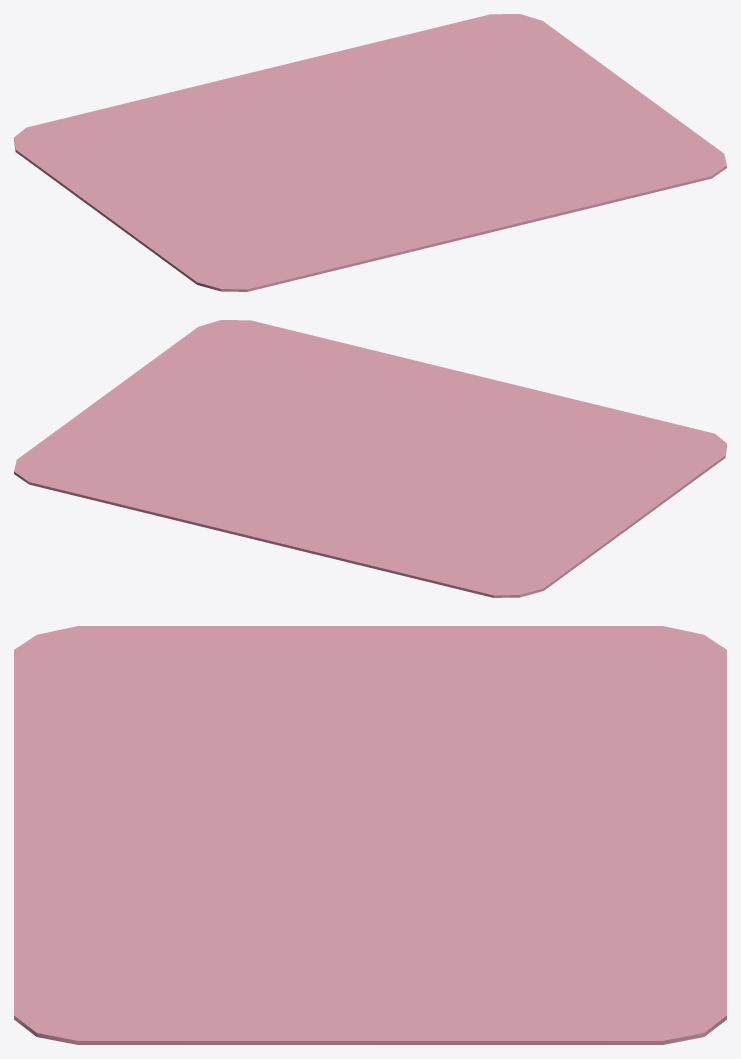
The model's file is PlayingCard.fbx.
3 views of the same model, one above another, from view 1: azimuth 30°, elevation 25°; view 2: azimuth 150°, elevation 25°; view 3: azimuth 270°, elevation 25° (orthographic). The views are drawn at different scales.
Visible parts, largest first — view 1: PlayingCard; view 2: PlayingCard; view 3: PlayingCard.
Boxes of the visible parts, <box> form: PlayingCard: <box>14,14,726,291</box>; PlayingCard: <box>14,320,726,597</box>; PlayingCard: <box>14,626,726,1044</box>.
Bounding box in the file's own units: 6.53 × 0.0299 × 4.74.
